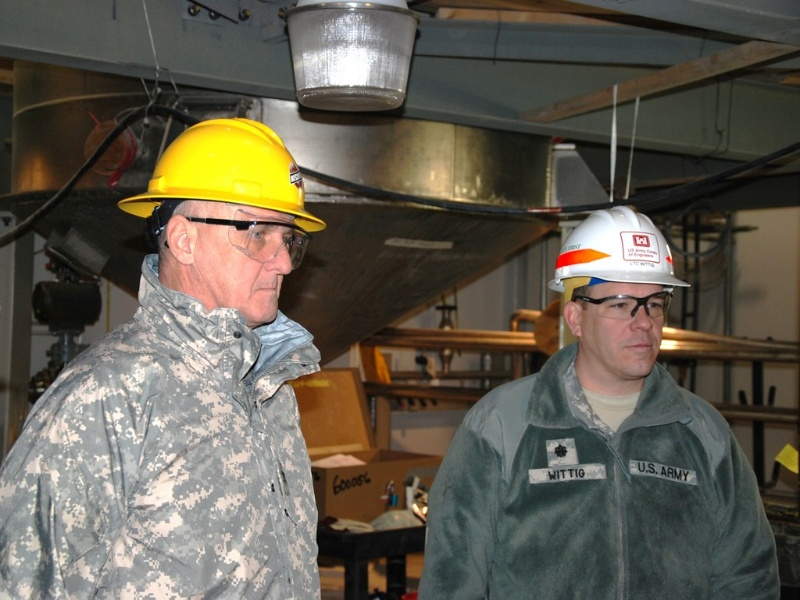Baret: (118, 117, 325, 224), (557, 204, 680, 287)
Gozluk: (185, 213, 313, 263), (567, 291, 675, 319)
